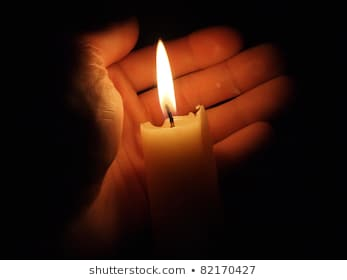Fire: (153, 39, 181, 118)
